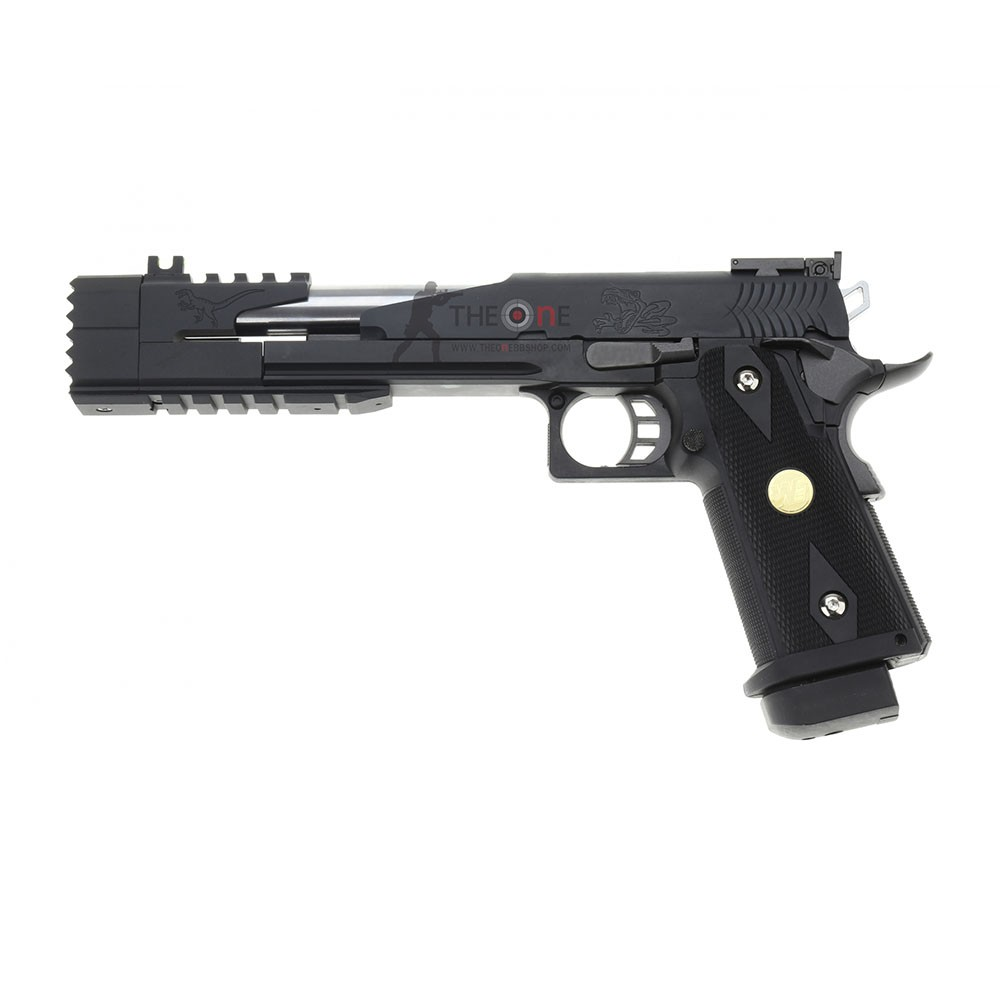gun: (55, 243, 951, 754)
